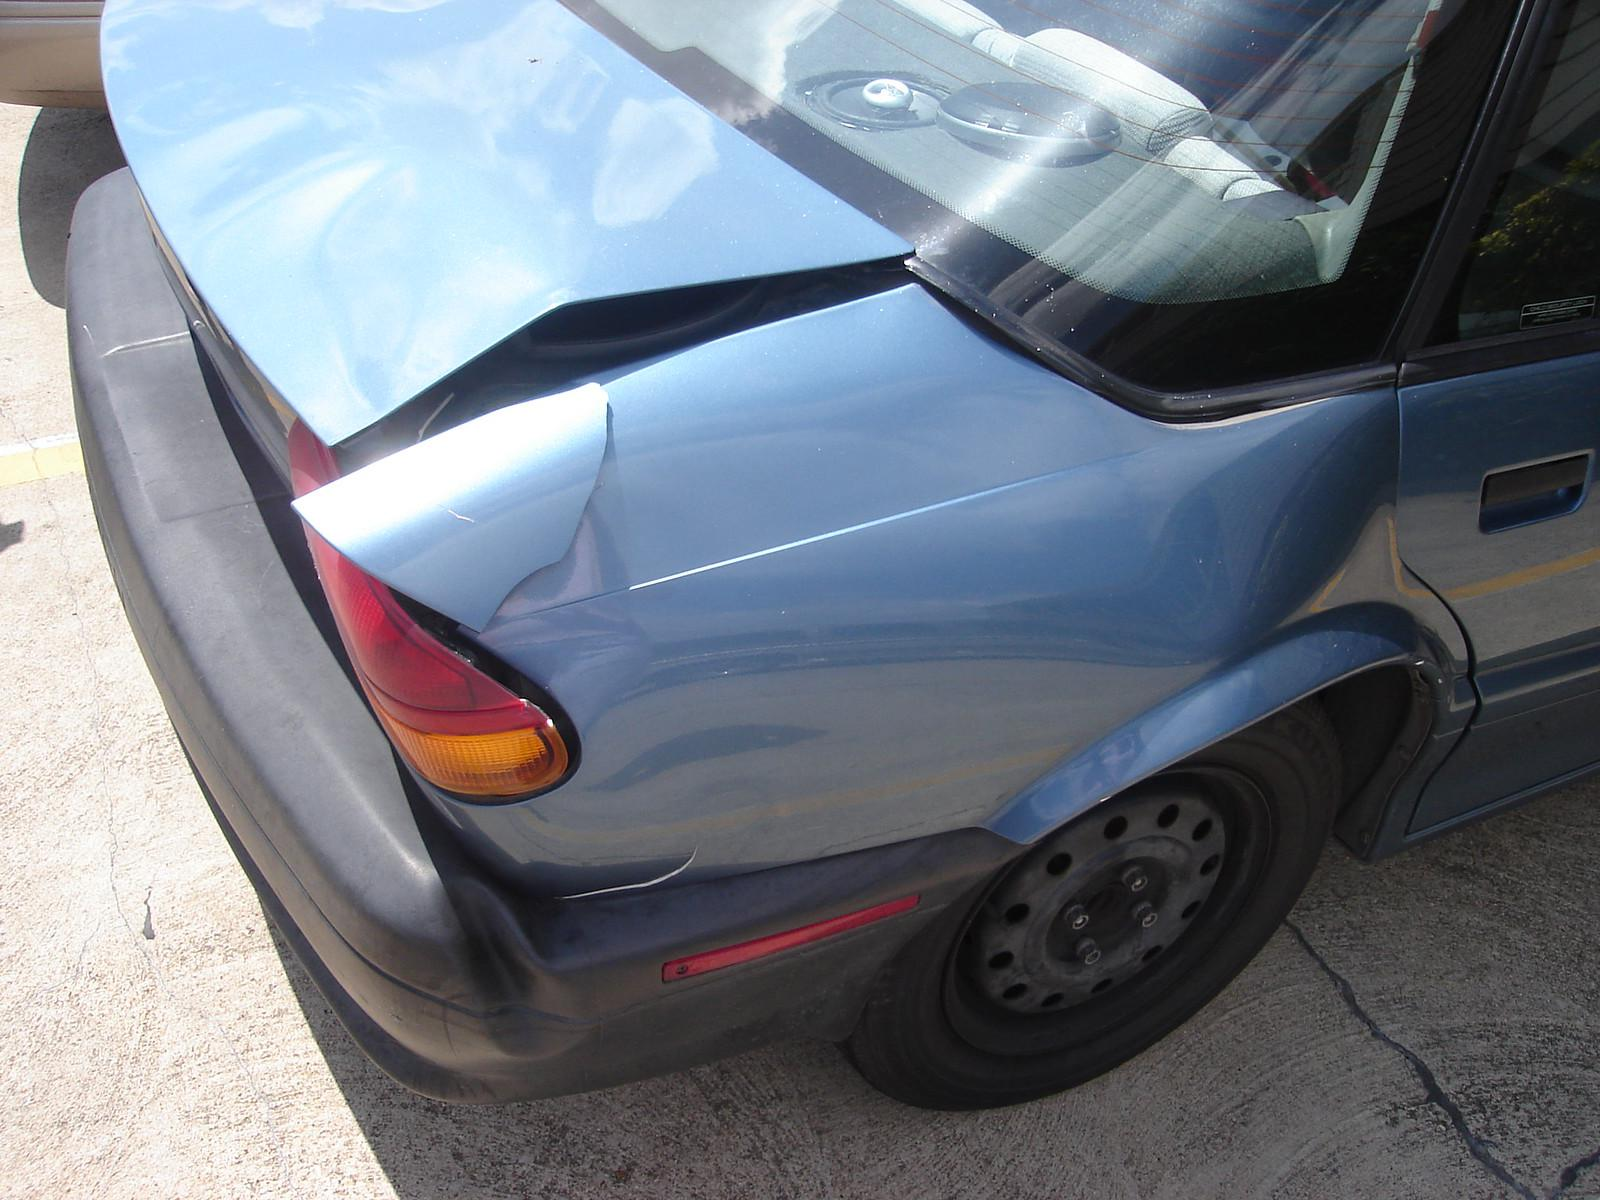boot-dent: (31, 0, 887, 442)
quaterpanel-dent: (364, 430, 1420, 816)
